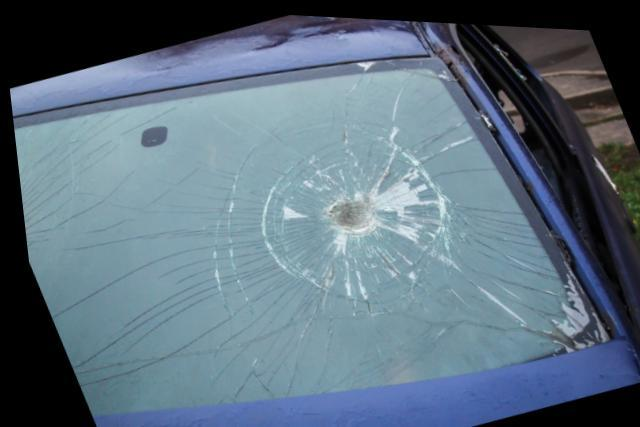glass shatter: (10, 51, 605, 415)
